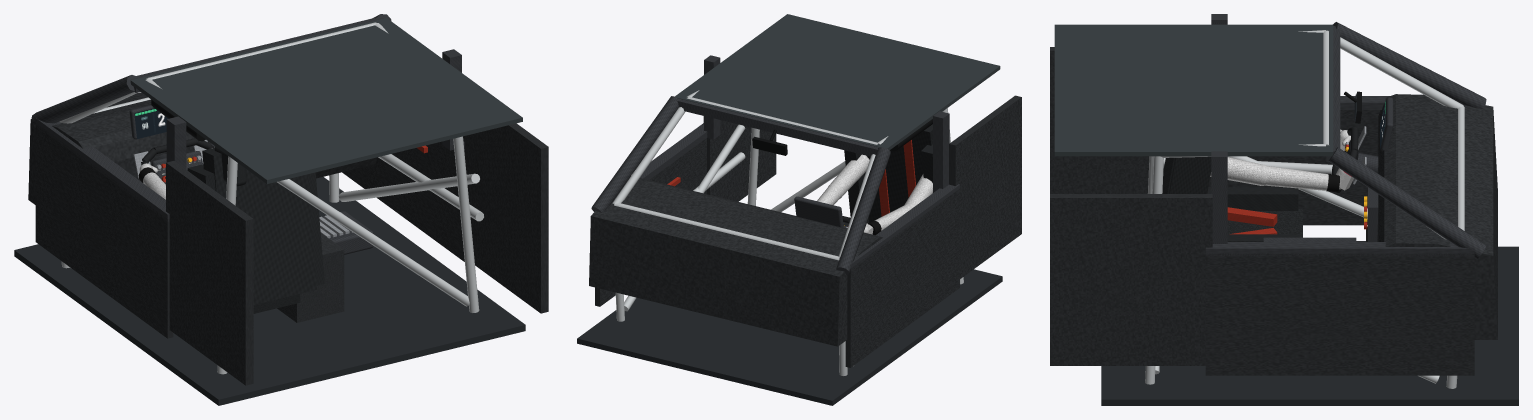
File: driver-cell.glb
The picture shows the model from 3 angles, left to right: view 1: azimuth 30°, elevation 25°; view 2: azimuth 150°, elevation 25°; view 3: azimuth 270°, elevation 25°; orthographic projection. The views are drawn at different scales.
Visible parts, largest first — view 1: GT3R_DriverCell; view 2: GT3R_DriverCell; view 3: GT3R_DriverCell.
Part boxes in pixels (bbox=[...]): GT3R_DriverCell: bbox=[14, 14, 548, 405]; GT3R_DriverCell: bbox=[577, 14, 1021, 405]; GT3R_DriverCell: bbox=[1050, 14, 1518, 405].
Size of the model in its own units: 1.43 by 1.06 by 1.84.
20 materials, 12 textured.
